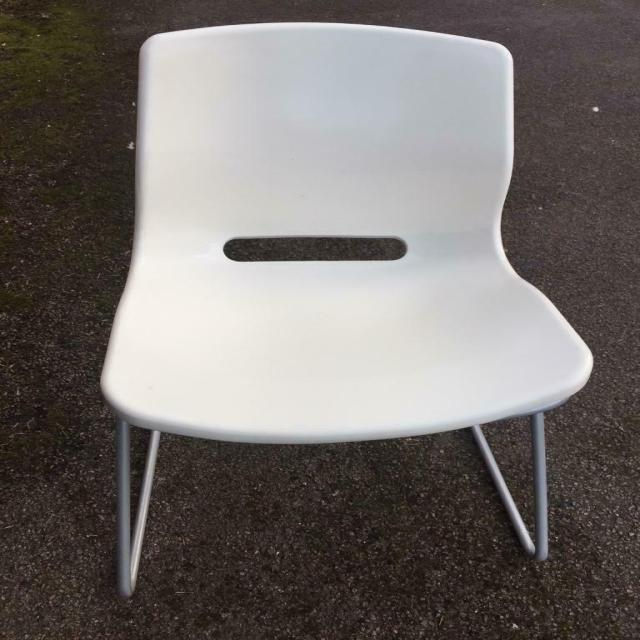chair: (101, 18, 598, 600)
